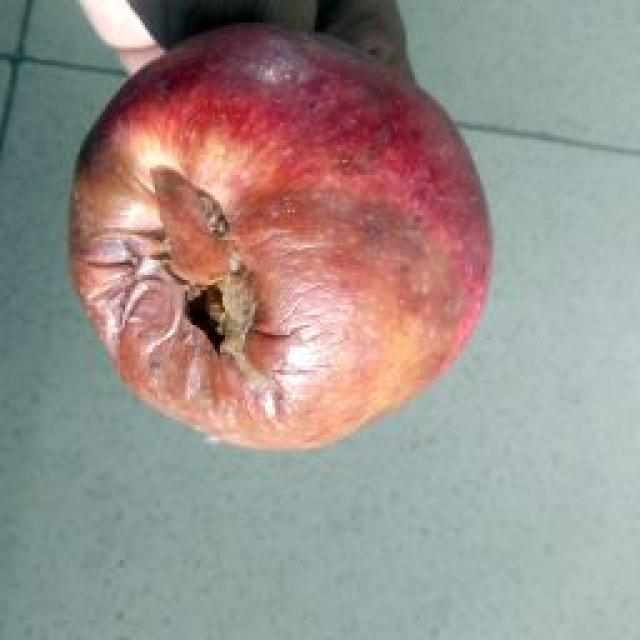Bad_Apple: (72, 25, 488, 448)
